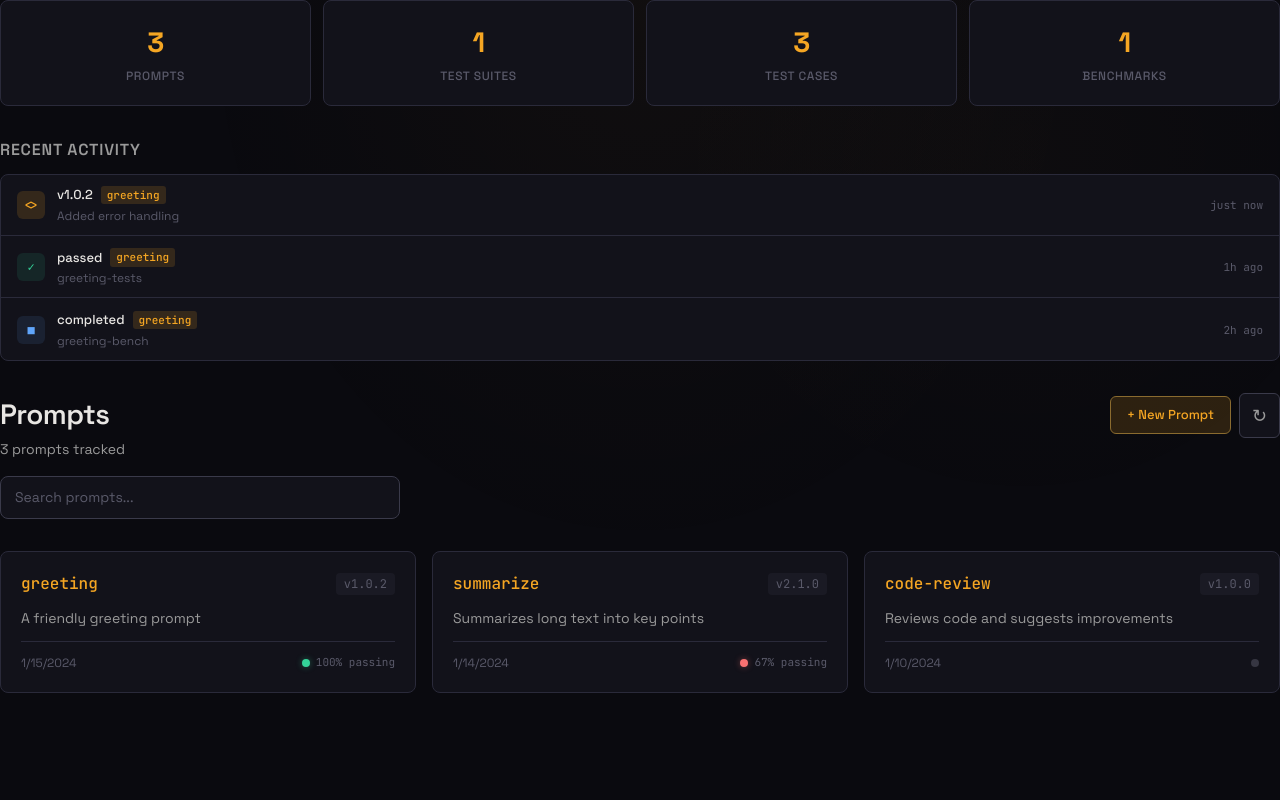
Scenario: HomePage › opens modal when New Prompt clicked
What coordinates should you click on to do the following:
click the button "+ New Prompt"
I would click on:
 (1170, 415)
Its box is [1110,396,1231,434].
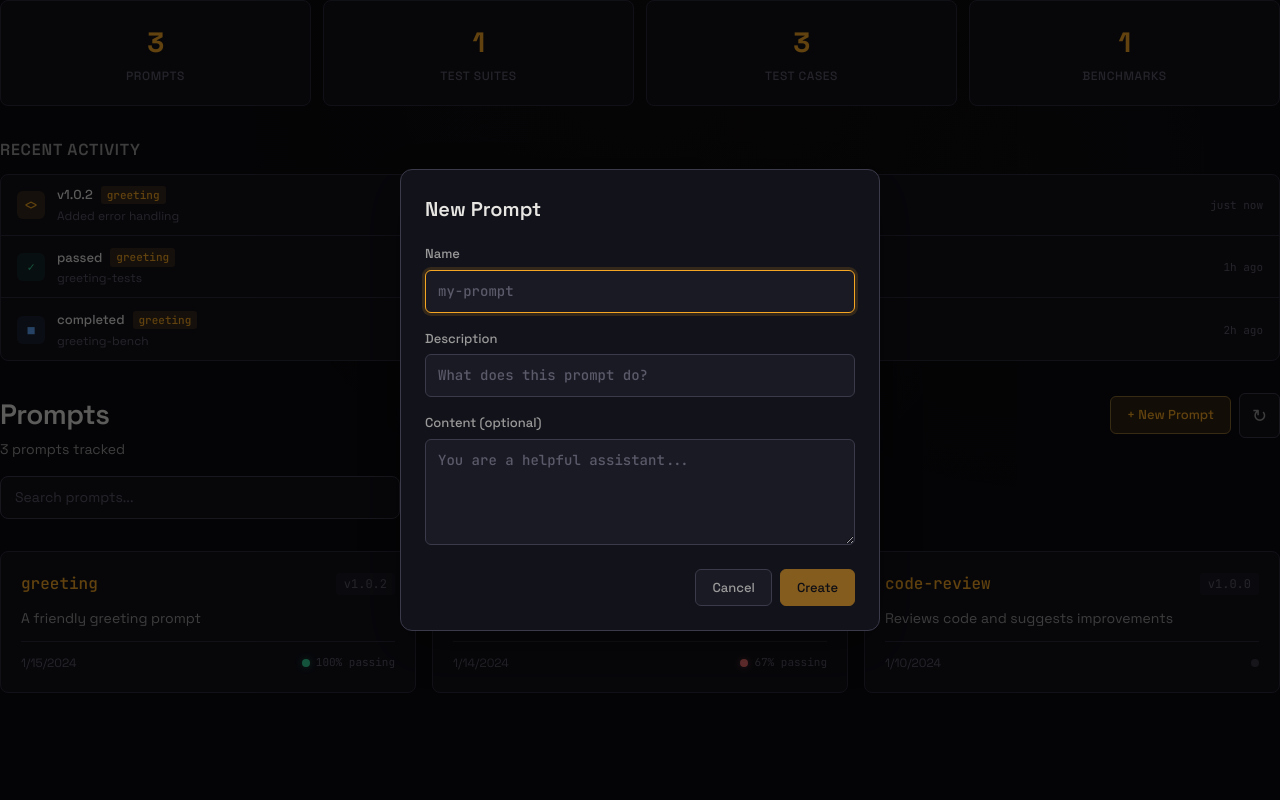
Check: the heading "New Prompt" is shown, box [425,196,541,222]
Check: the field with placeholder "my-prompt" is shown, box [425,270,855,312]
